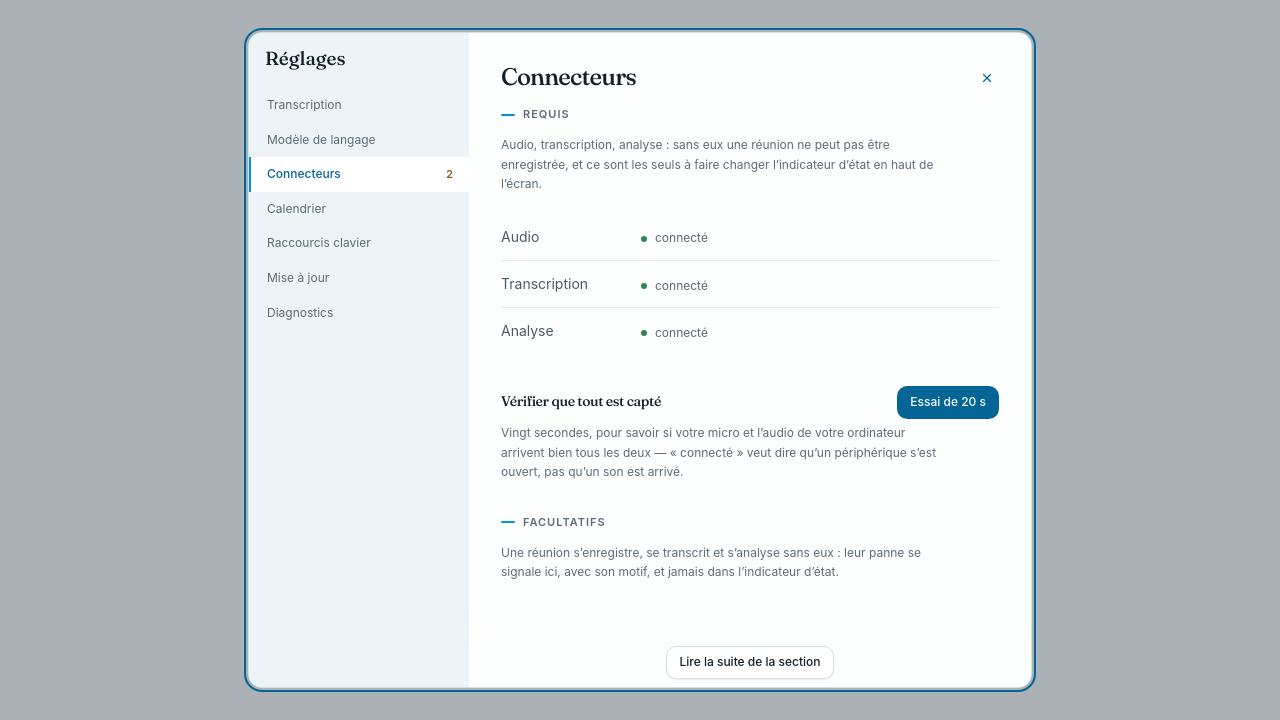
Test: DEC-30: local transcription is the default, and is written as one › the section opens by stating that transcription happens on this machine
Click the button "Transcription".
click(359, 105)  # box [249,88,469,123]
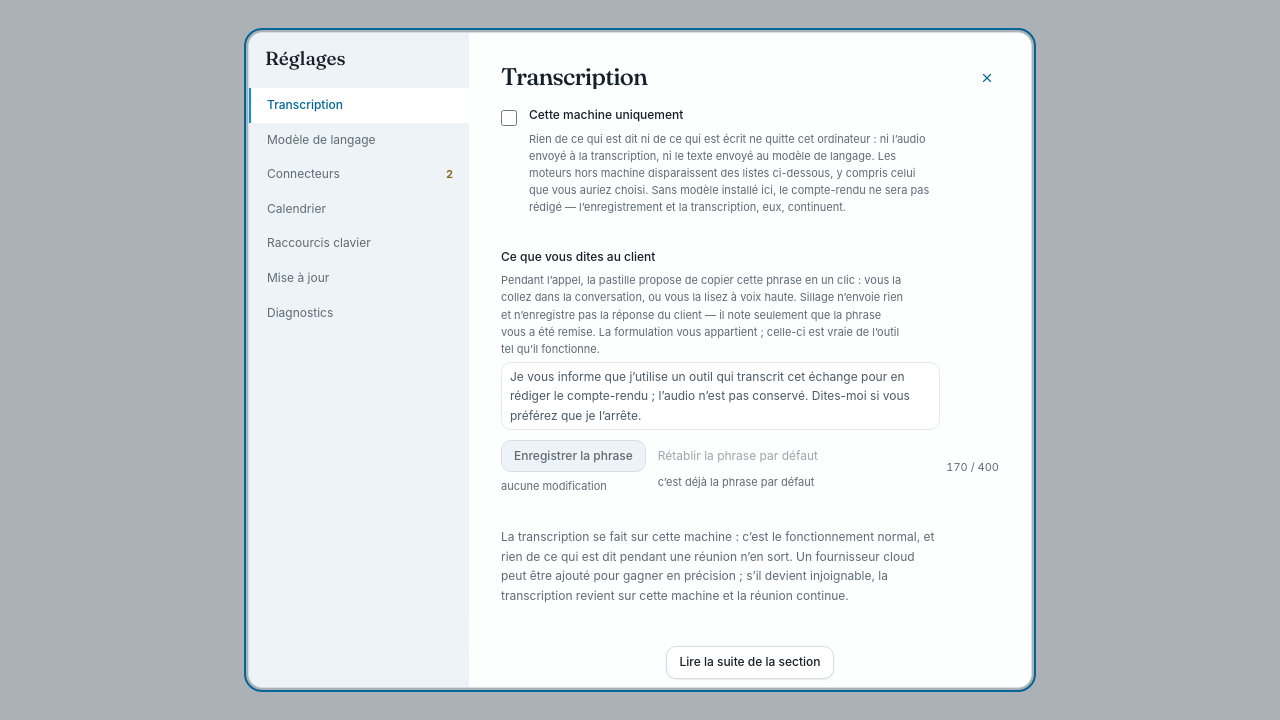
Check: the text "La transcription se fait sur cette machine" shows "c’est le fonctionnement normal", box [501,530,934,603]
Check: the text "La transcription se fait sur cette machine" shows "pour gagner en précision", box [501,530,934,603]
